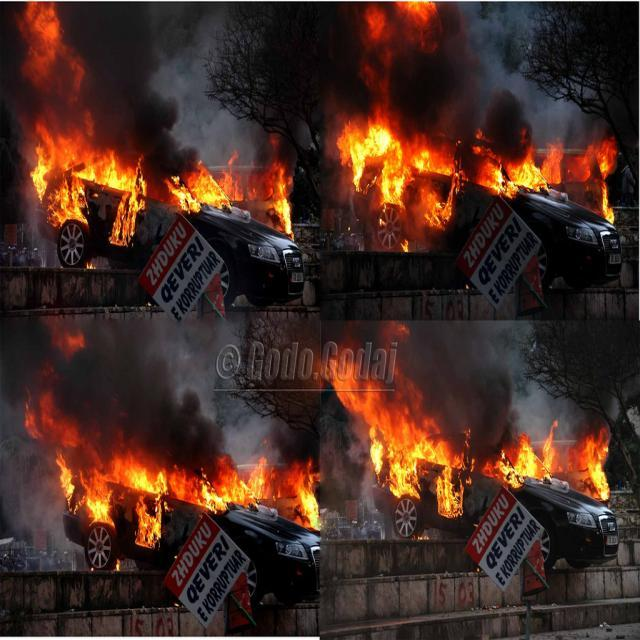Fire: (78, 456, 314, 531), (34, 148, 138, 242), (382, 426, 469, 526), (361, 132, 447, 222), (508, 438, 610, 496)
